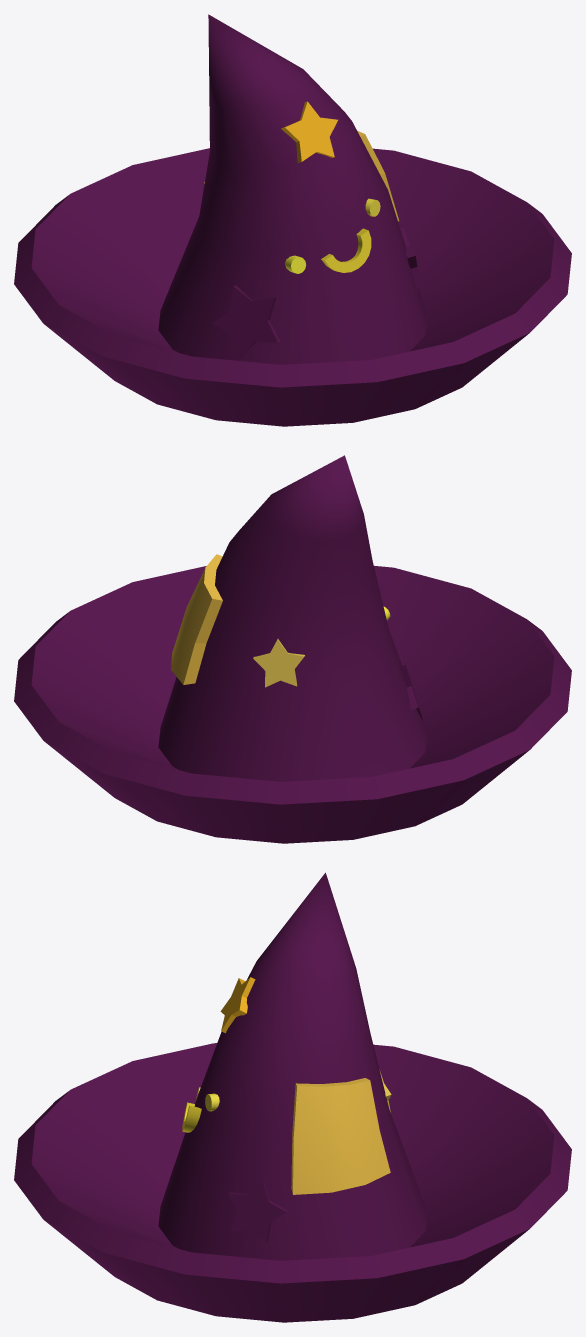
Rendered from Hat_5.fbx.
The picture shows the model from 3 angles, top to bottom: view 1: azimuth 30°, elevation 25°; view 2: azimuth 150°, elevation 25°; view 3: azimuth 270°, elevation 25°; orthographic projection.
Visible parts, largest first — view 1: Cylinder001_1, Star003_4, Star003 (1)_5, Cylinder005_11; view 2: Cylinder001_1, Hat_0, Star002_3; view 3: Cylinder001_1, Hat_0, Star003 (2)_6, Star003 (1)_5.
Part boxes in pixels (box(x1,y1,x2,y2)): Cylinder001_1: box(14, 14, 571, 426); Star003_4: box(212, 285, 280, 358); Star003 (1)_5: box(281, 101, 337, 162); Cylinder005_11: box(321, 228, 371, 272); Cylinder001_1: box(14, 455, 571, 843); Hat_0: box(171, 554, 222, 684); Star002_3: box(253, 639, 304, 687); Cylinder001_1: box(14, 872, 571, 1322); Hat_0: box(291, 1078, 390, 1194); Star003 (2)_6: box(228, 1181, 287, 1242); Star003 (1)_5: box(220, 977, 255, 1033).
Bounding box in the file's own units: 9724 × 6341 × 9651.
